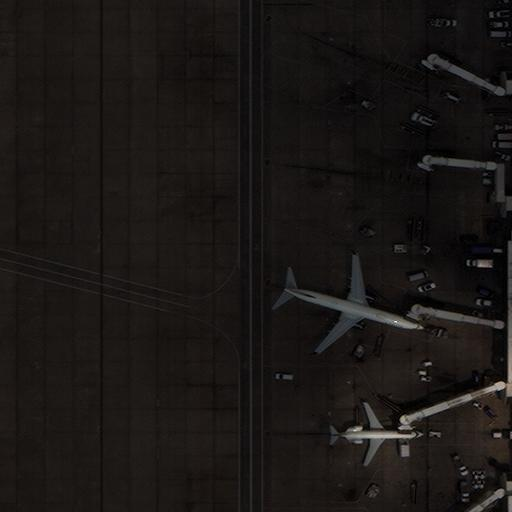Medium Civil Transport: (281, 254, 426, 355), (328, 401, 423, 466)
